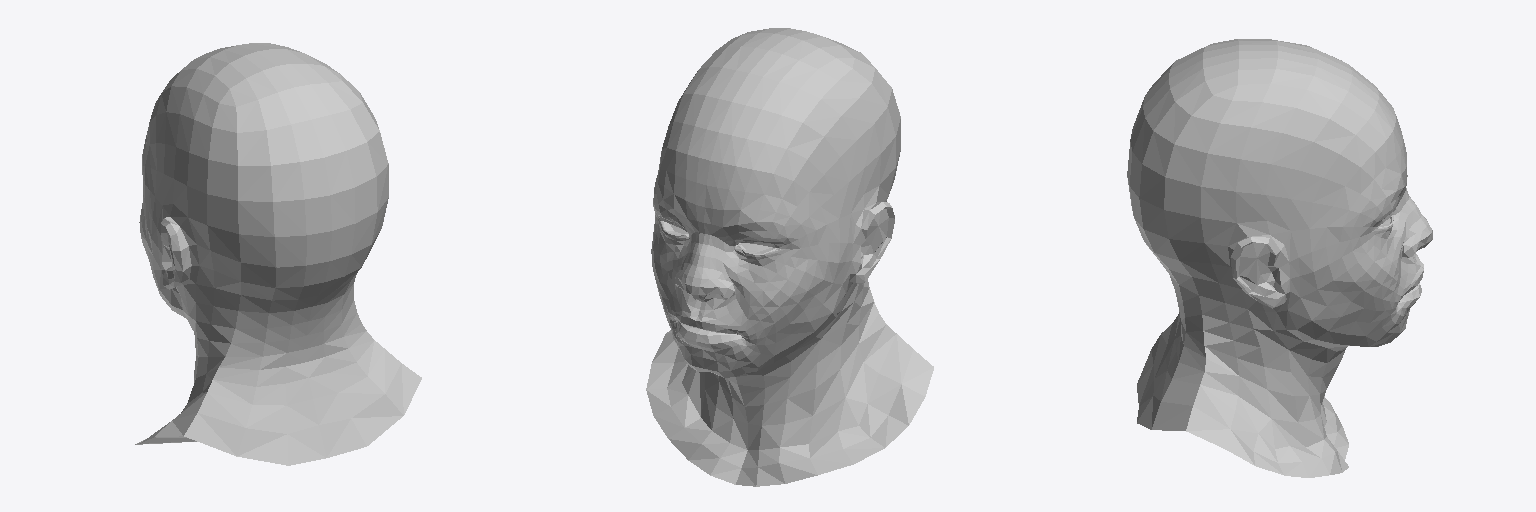
File: african_head.obj
The picture shows the model from 3 angles: view 1: azimuth 30°, elevation 25°; view 2: azimuth 150°, elevation 25°; view 3: azimuth 270°, elevation 25°; orthographic projection.
Size of the model in its own units: 1.62 by 2.44 by 1.65.